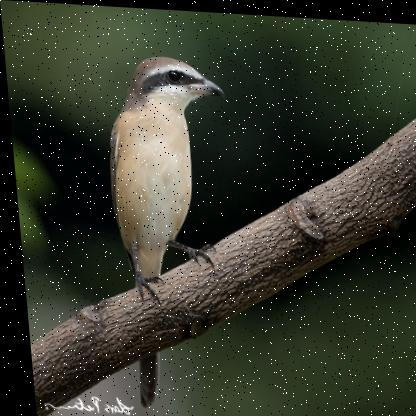Burung: (97, 49, 251, 413)
